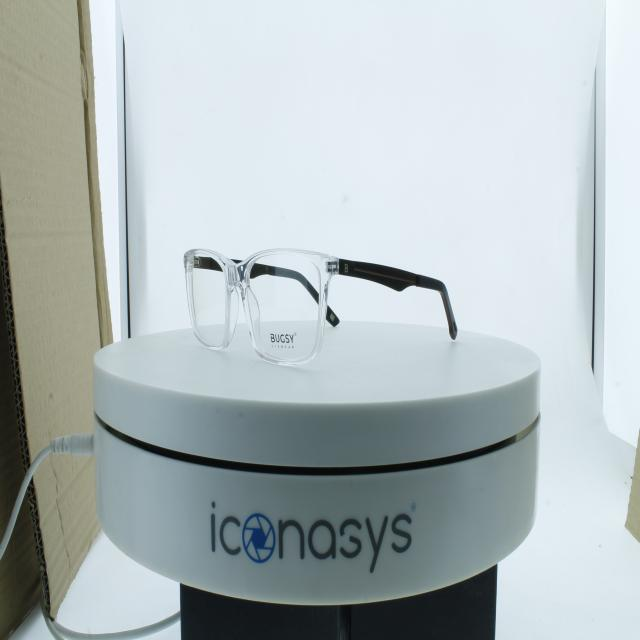Specs: (174, 227, 467, 375)
